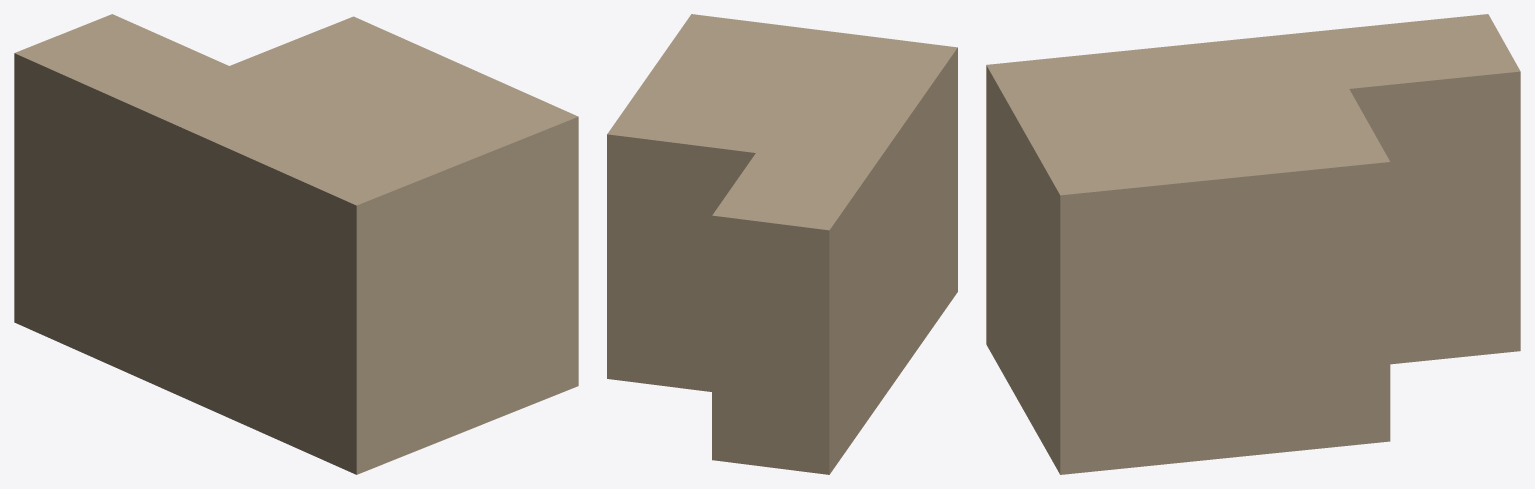
File: bld_100469469.dae
The picture shows the model from 3 angles, left to right: view 1: azimuth 30°, elevation 25°; view 2: azimuth 150°, elevation 25°; view 3: azimuth 270°, elevation 25°; orthographic projection. The views are drawn at different scales.
Parts seen in each view (by area): view 1: bld_100469469; view 2: bld_100469469; view 3: bld_100469469.
Boxes of the visible parts, left/top/right/bottom form: bld_100469469: left=14, top=14, right=578, bottom=474; bld_100469469: left=607, top=14, right=957, bottom=474; bld_100469469: left=986, top=14, right=1520, bottom=474.
Bounding box in the file's own units: 9.74 × 12.13 × 7.
